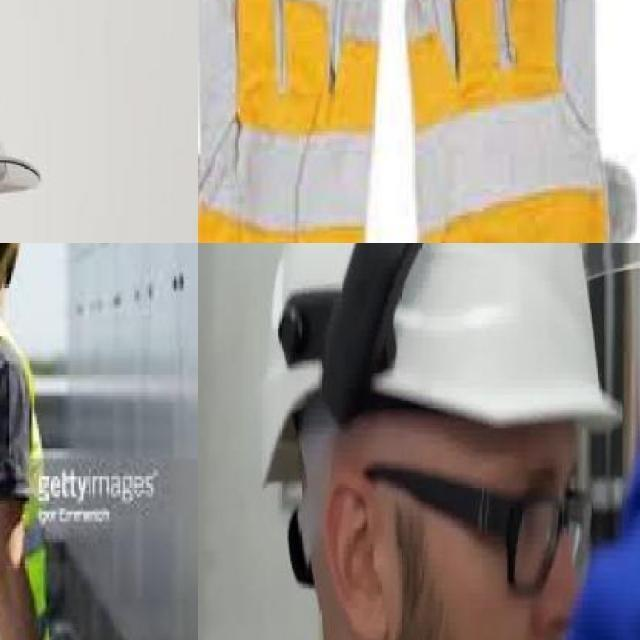apron: (397, 0, 638, 243), (198, 0, 390, 243)
